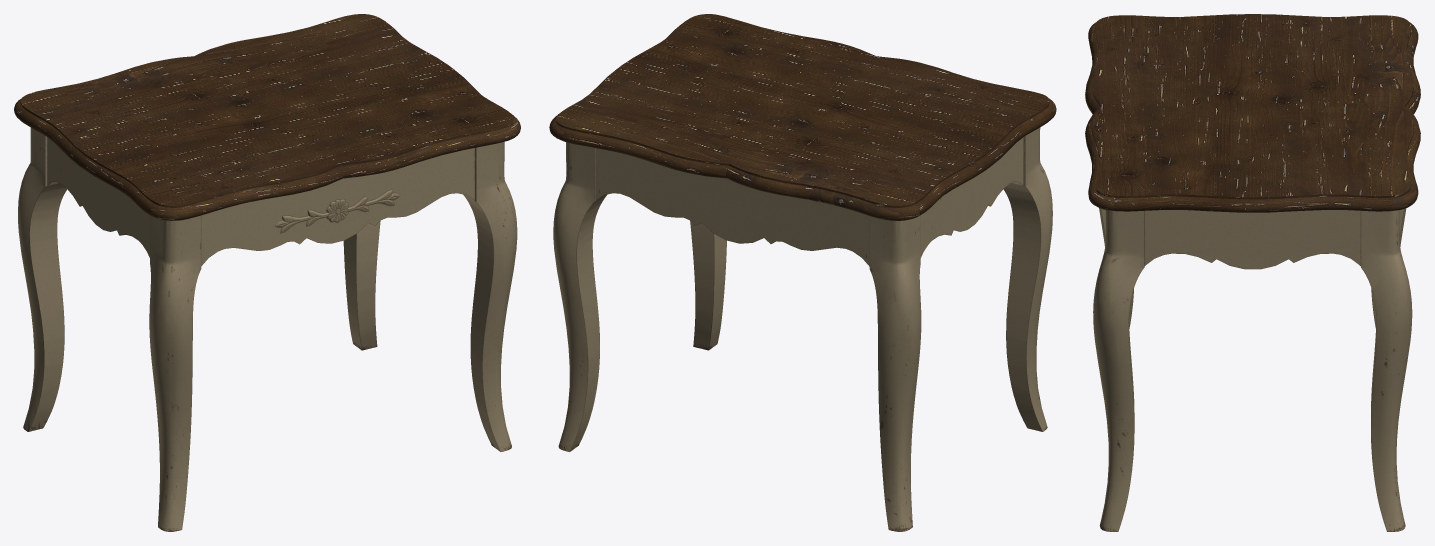
File: example141.gltf
The picture shows the model from 3 angles, left to right: view 1: azimuth 30°, elevation 25°; view 2: azimuth 150°, elevation 25°; view 3: azimuth 270°, elevation 25°; orthographic projection. The views are drawn at different scales.
Size of the model in its own units: 60.01 by 50 by 45.
2 materials, 2 textured.
